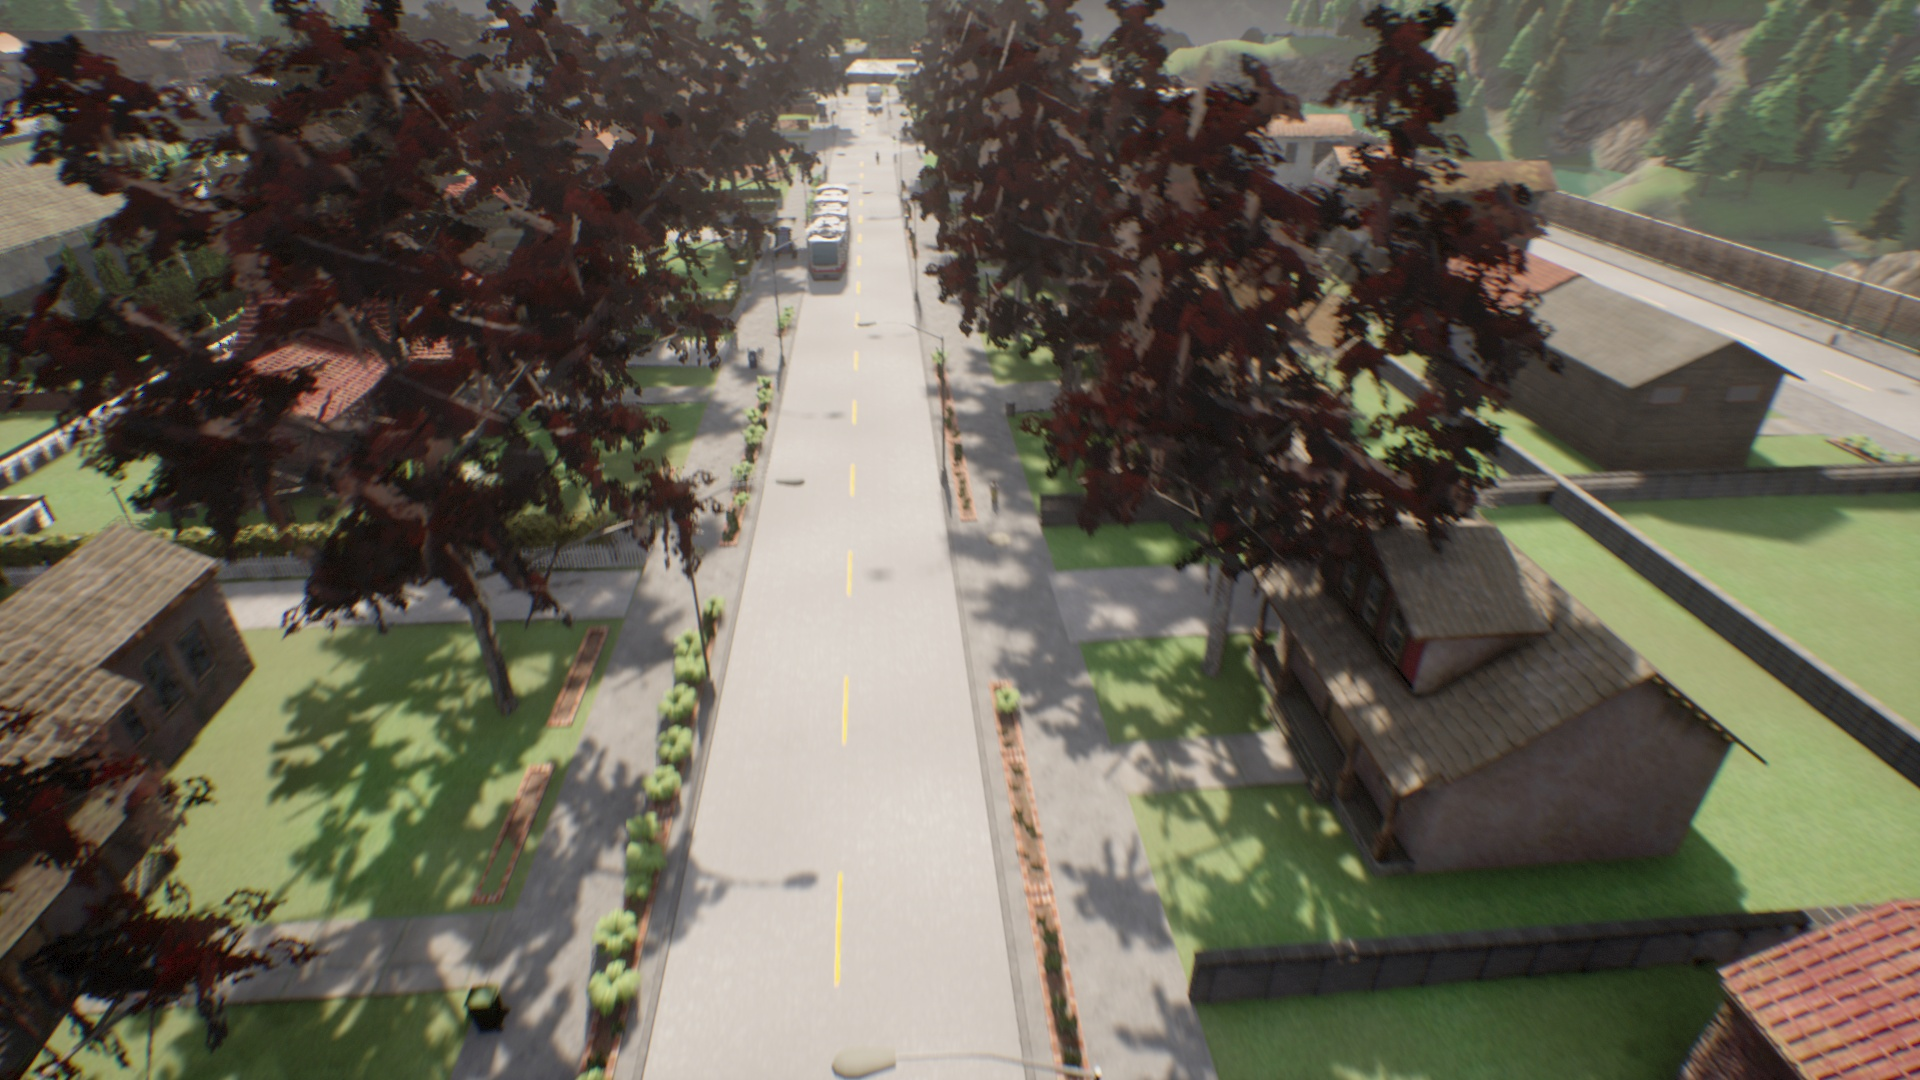Bus: (805, 181, 858, 289)
Motorcycle: (872, 147, 883, 173)
Truck: (865, 83, 886, 120)
